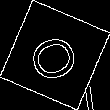O_E: (24, 25, 86, 85)
